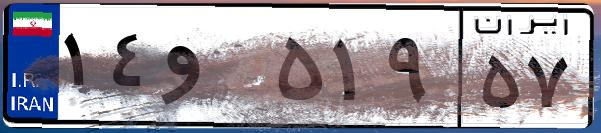1: (330, 28, 385, 110), (57, 26, 110, 100)
4: (110, 28, 158, 98)
5: (270, 28, 330, 110), (475, 38, 525, 113)
7: (525, 38, 570, 115)
9: (385, 28, 445, 110)
و: (158, 20, 270, 120)
